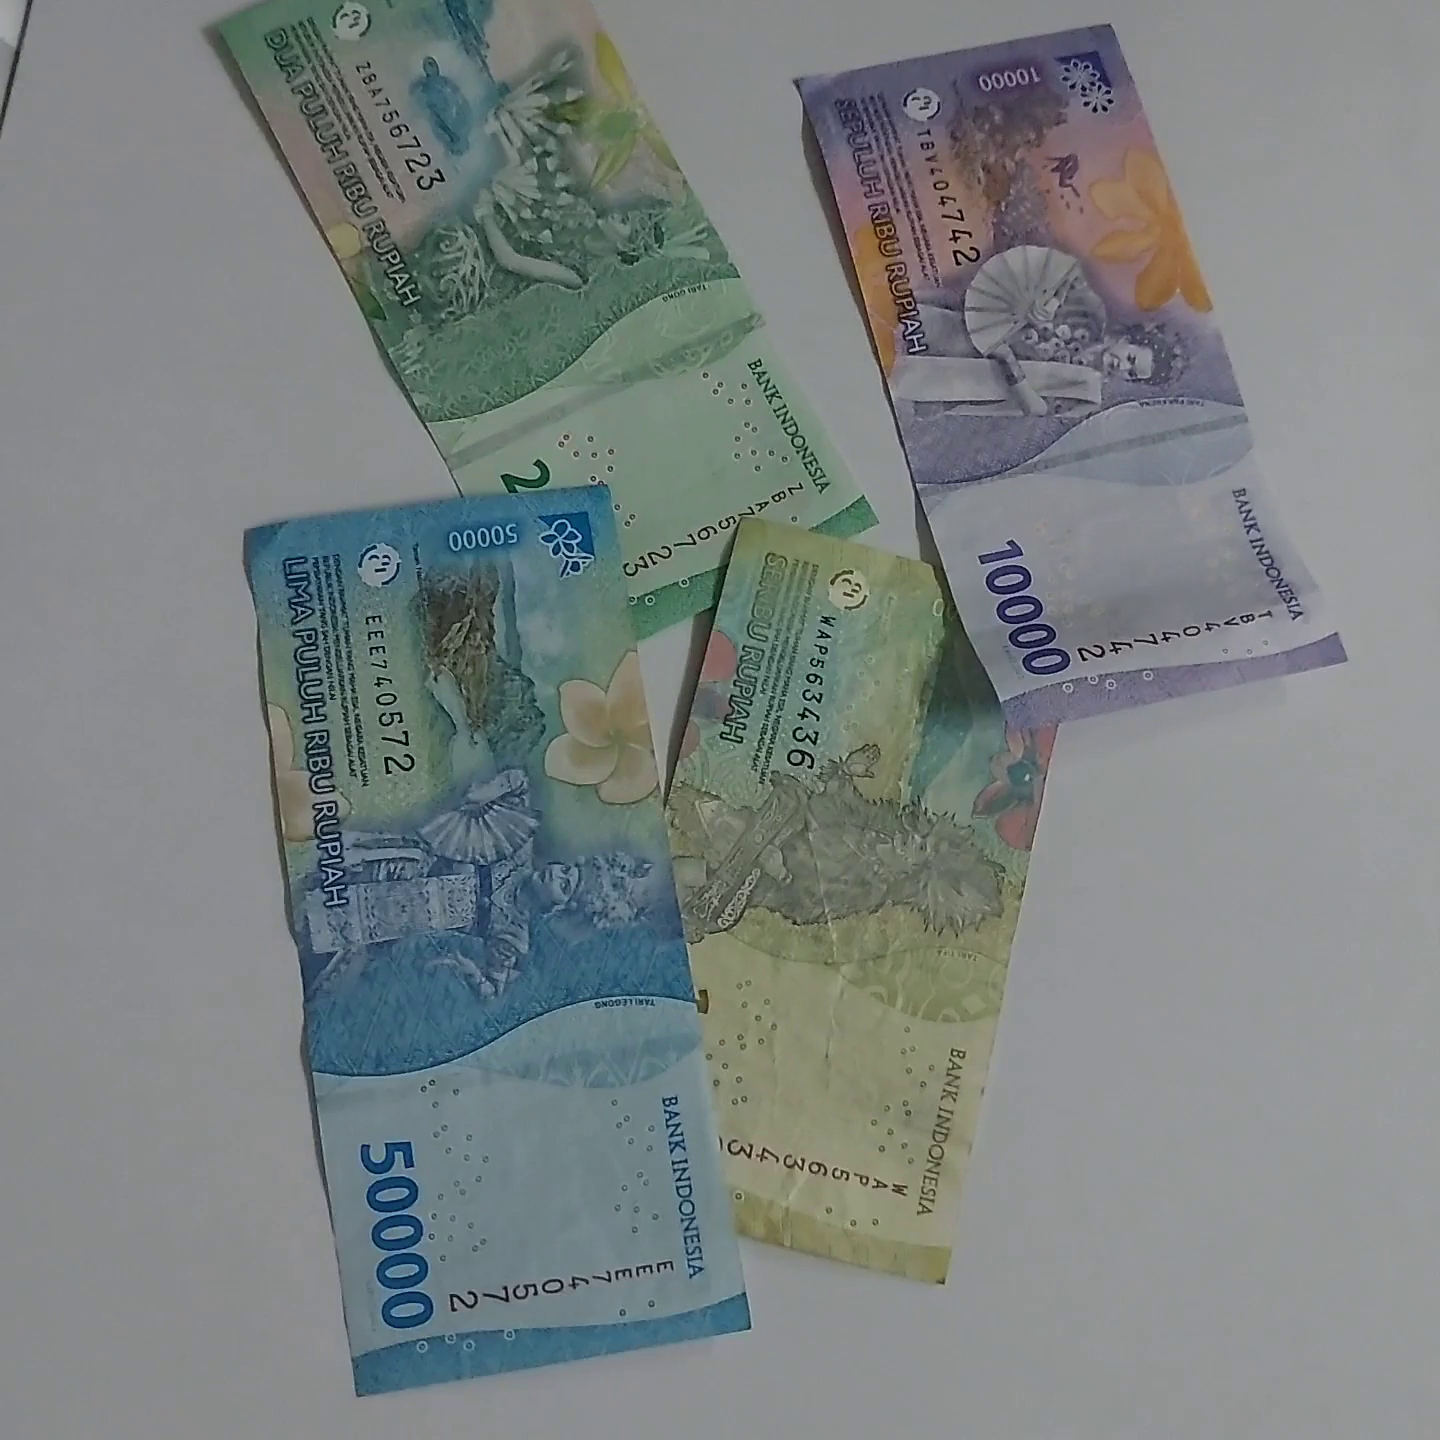10k: (803, 0, 1400, 713)
1k: (723, 491, 1118, 1234)
20k: (165, 1, 882, 662)
50k: (169, 472, 750, 1391)
